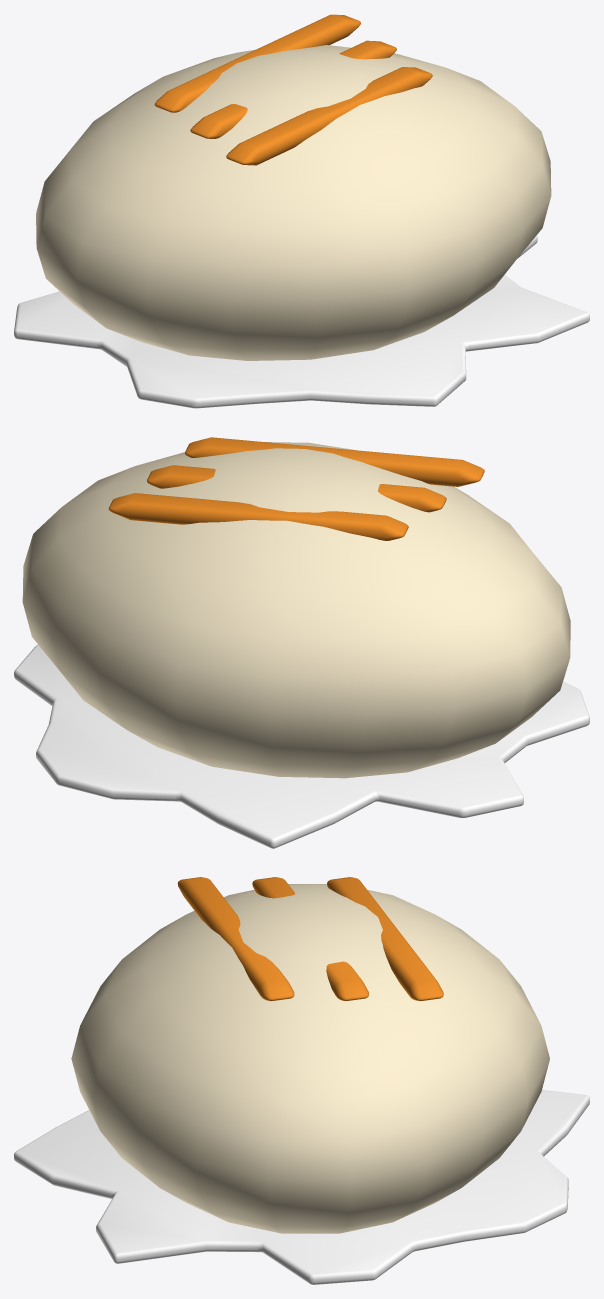
File: bread.glb
3 views of the same model, one above another, from view 1: azimuth 30°, elevation 25°; view 2: azimuth 150°, elevation 25°; view 3: azimuth 270°, elevation 25° (orthographic). The views are drawn at different scales.
Visible parts, largest first — view 1: DoughBoule; view 2: DoughBoule; view 3: DoughBoule.
Boxes of the visible parts, x1,y1,x2,y2 form: DoughBoule: (14, 14, 589, 408); DoughBoule: (14, 437, 589, 848); DoughBoule: (14, 877, 589, 1284).
Bounding box in the file's own units: 0.5144 × 0.2375 × 0.5016.
